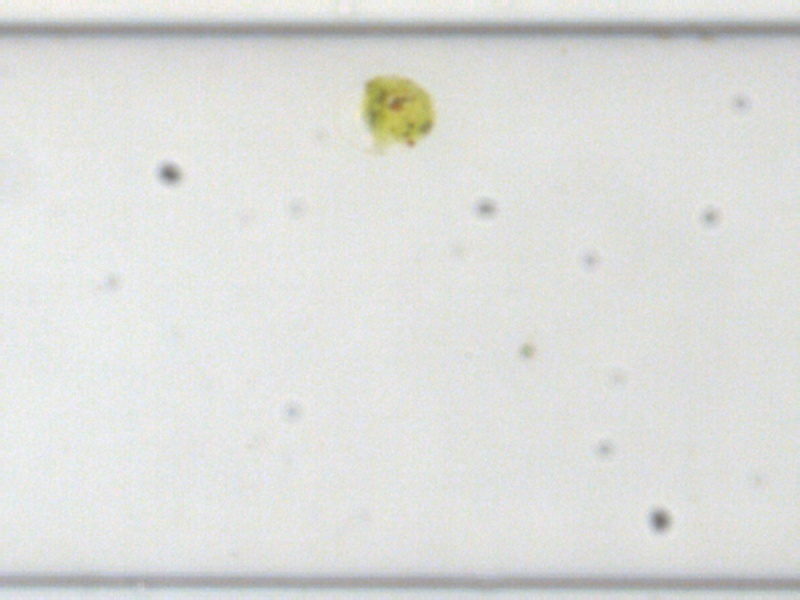Chlorella: (517, 342, 537, 358)
Haematococcus: (356, 72, 442, 156)
